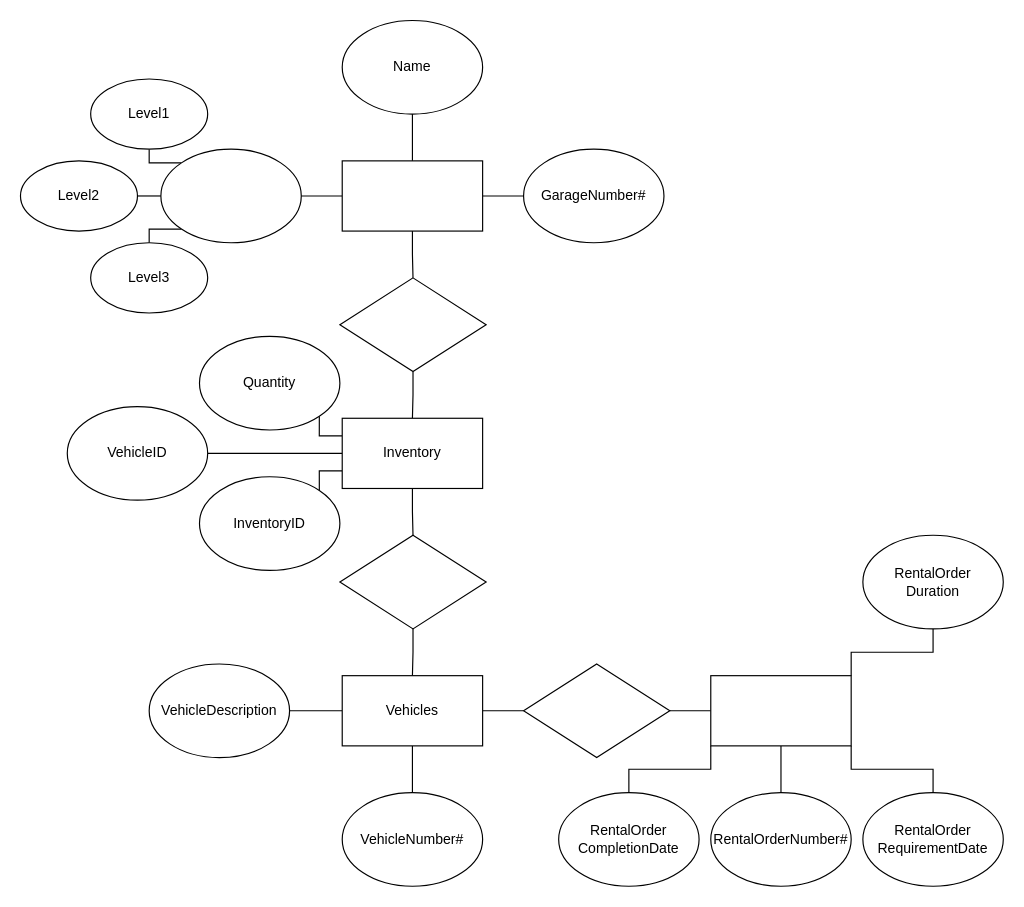
The diagram is 1024 pixels wide and 907 high, and some of its shapes have lost their labels. The centre of each missing label's shape, as x and y in pixels:
Garage: (412,195)
Level: (230,195)
Rental Orders: (780,710)
Replenishment (Add): (412,324)
Request: (596,710)
To Provide Detail: (412,581)
